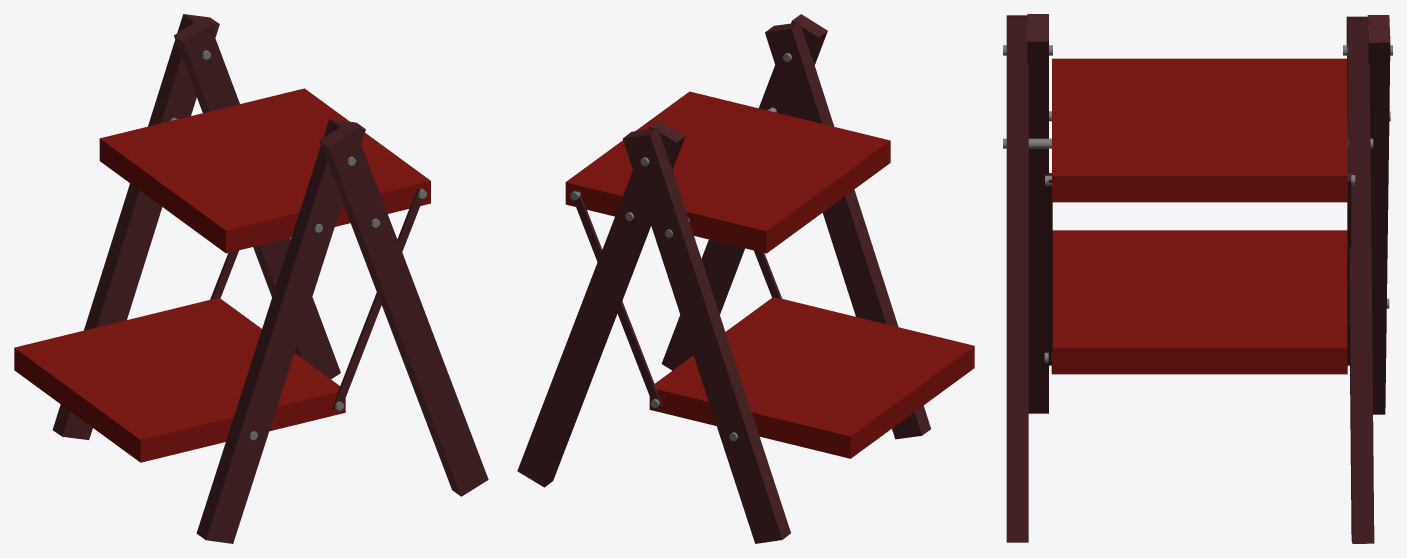
Rendered from Ladder_Instrumnet_Model.fbx.
3 views of the same model, side by side, from view 1: azimuth 30°, elevation 25°; view 2: azimuth 150°, elevation 25°; view 3: azimuth 270°, elevation 25° (orthographic). The views are drawn at different scales.
Parts seen in each view (by area): view 1: Cube, Cube.005, Cube.003, Cube.004, Cube.001; view 2: Cube.004, Cube.005, Cube.003, Cube, Cube.002; view 3: Cube.005, Cube.003, Cube, Cube.004, Cube.001, Cube.002.
Part boxes in pixels (x1,y1,x2,y2): Cube: (196, 119, 488, 543); Cube.005: (14, 298, 345, 462); Cube.003: (99, 88, 430, 253); Cube.004: (52, 14, 340, 439); Cube.001: (332, 188, 425, 410); Cube.004: (517, 120, 790, 543); Cube.005: (649, 297, 974, 458); Cube.003: (565, 91, 890, 253); Cube: (661, 14, 930, 439); Cube.002: (570, 189, 662, 408); Cube.005: (1051, 230, 1347, 374); Cube.003: (1052, 58, 1347, 202); Cube: (1006, 14, 1048, 542); Cube.004: (1346, 15, 1390, 543); Cube.001: (1048, 173, 1052, 365); Cube.002: (1347, 173, 1351, 365).
Size of the model in its own units: 479 by 548 by 420.
